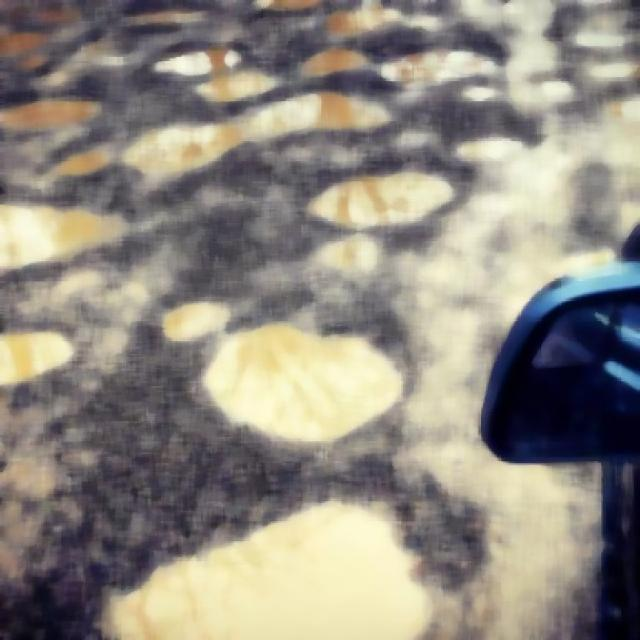Pothole: (68, 481, 504, 639), (117, 76, 394, 193), (211, 308, 411, 448), (0, 142, 118, 299), (0, 328, 126, 444), (308, 156, 463, 250), (433, 113, 562, 182), (136, 42, 276, 98), (0, 83, 98, 129)
